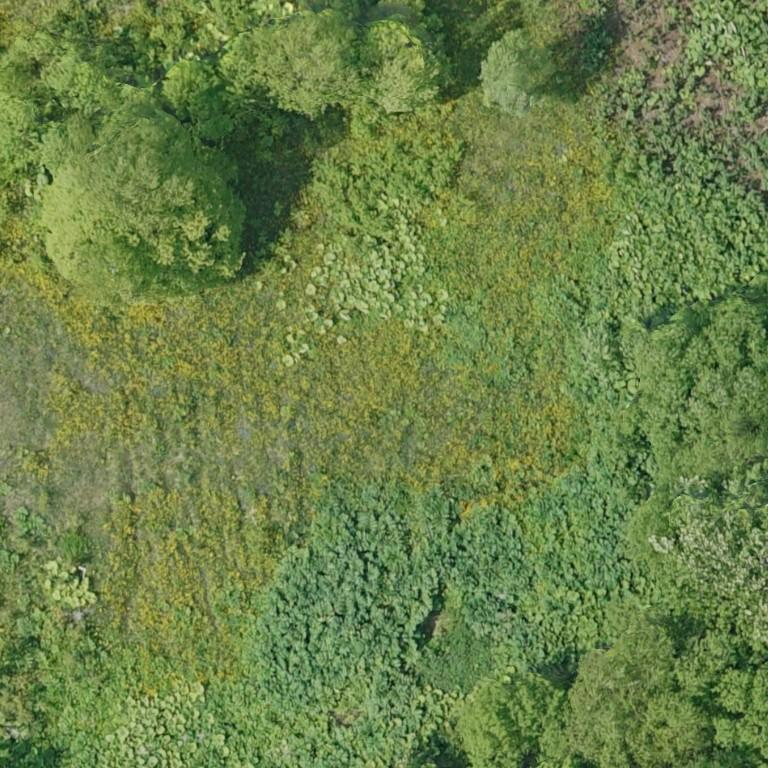hogweed: (255, 487, 466, 716), (417, 459, 636, 669)
